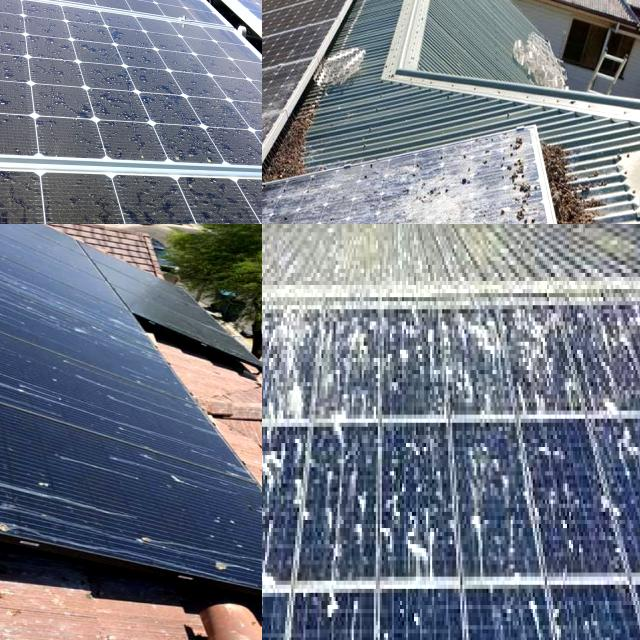bird: (461, 437, 518, 543), (530, 426, 582, 529), (406, 150, 491, 210), (318, 448, 369, 544), (105, 327, 179, 388), (38, 426, 132, 472), (446, 315, 499, 388), (161, 426, 241, 468), (262, 322, 303, 402), (604, 417, 640, 504), (394, 507, 442, 571), (511, 565, 548, 640), (262, 431, 297, 510), (520, 345, 565, 405), (319, 581, 358, 640), (262, 468, 284, 565), (262, 456, 285, 547), (499, 134, 536, 187), (501, 188, 540, 224)
dust: (81, 40, 208, 125), (0, 32, 94, 123), (0, 171, 112, 224), (152, 187, 262, 224)
